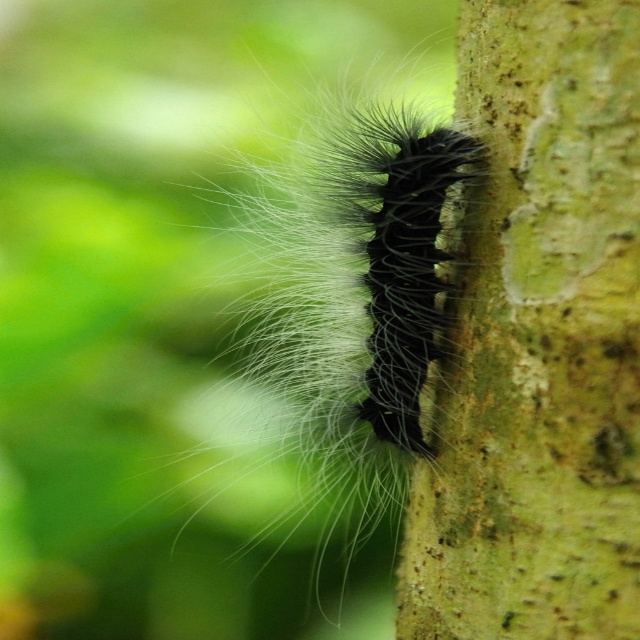Caterpillar: (140, 36, 508, 617)
